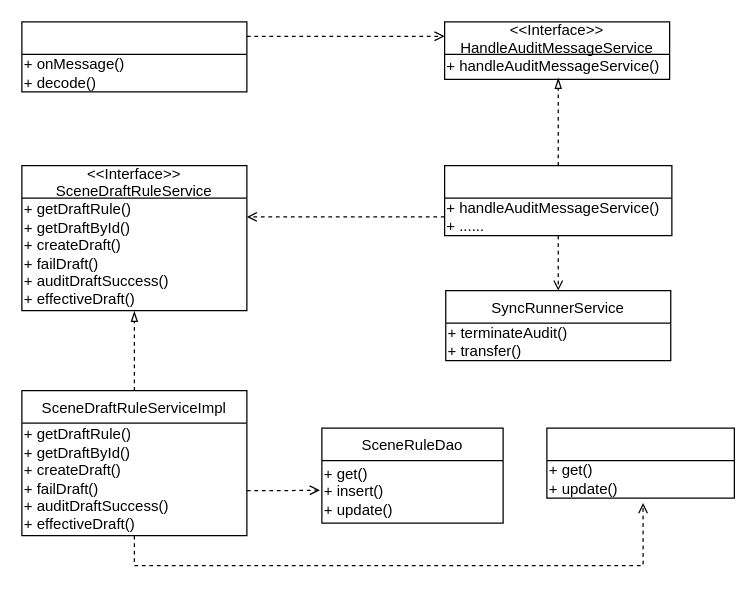
Image size: 756x598. Some labels were removed from this diagram. The box of each missing label's shape, as (x1, y1, x2, y2) in pixels:
AuditEventConsumer: (21, 21, 247, 92)
MQConsumerServiceImpl: (443, 164, 672, 236)
SceneRuleDraftDao: (546, 427, 734, 498)
